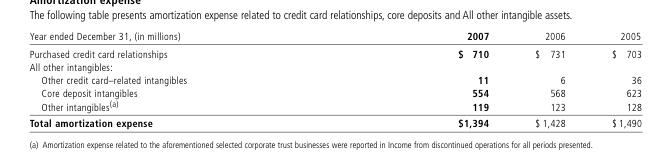table: (28, 29, 640, 128)
table column: (28, 29, 321, 128), (321, 29, 511, 128), (511, 29, 587, 128), (587, 29, 640, 128)
table column header: (28, 29, 640, 44)
table projected row header: (28, 60, 640, 73)
table row: (28, 44, 640, 60), (28, 98, 640, 114), (28, 29, 640, 44), (28, 114, 640, 128), (28, 60, 640, 73), (28, 73, 640, 86), (28, 86, 640, 98)
